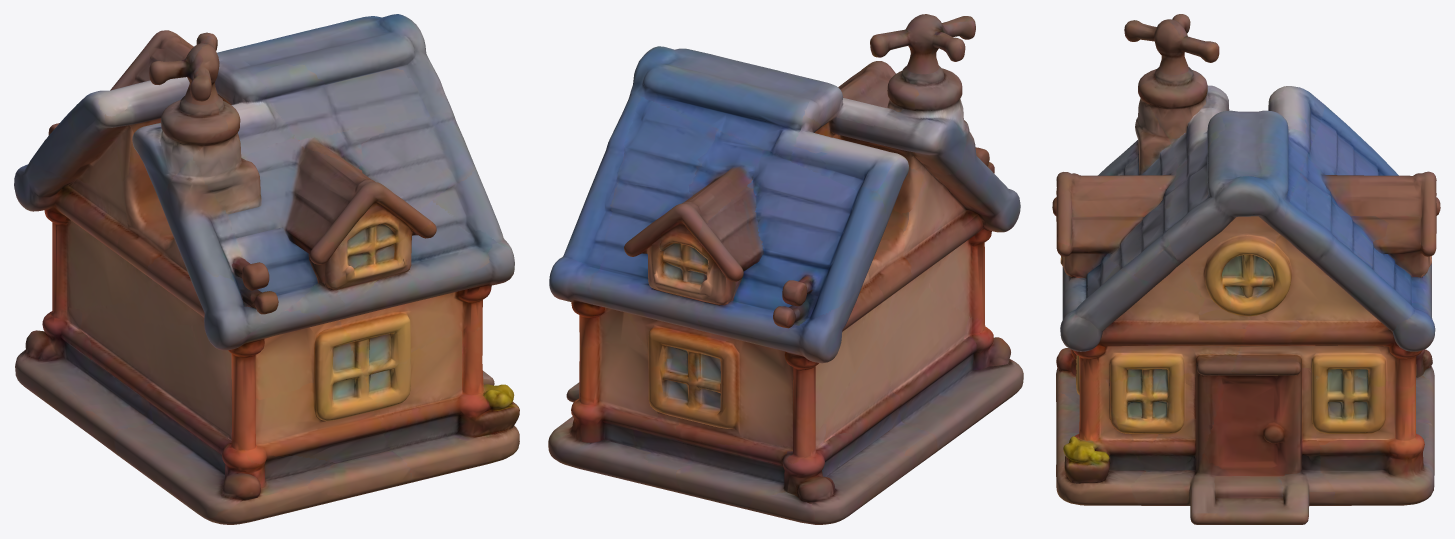
Rendered from school.glb.
3 views of the same model, side by side, from view 1: azimuth 30°, elevation 25°; view 2: azimuth 150°, elevation 25°; view 3: azimuth 270°, elevation 25° (orthographic). The views are drawn at different scales.
Visible parts, largest first — view 1: tripo_node_f57c9dda-cbc6-48a9-89f4-c29a75b38d7c; view 2: tripo_node_f57c9dda-cbc6-48a9-89f4-c29a75b38d7c; view 3: tripo_node_f57c9dda-cbc6-48a9-89f4-c29a75b38d7c.
Boxes of the visible parts, left/top/right/bottom form: tripo_node_f57c9dda-cbc6-48a9-89f4-c29a75b38d7c: left=14, top=14, right=519, bottom=524; tripo_node_f57c9dda-cbc6-48a9-89f4-c29a75b38d7c: left=548, top=14, right=1023, bottom=524; tripo_node_f57c9dda-cbc6-48a9-89f4-c29a75b38d7c: left=1052, top=14, right=1440, bottom=524.
Bounding box in the file's own units: 0.8216 × 0.9461 × 0.8854.
1 material, 1 textured.
